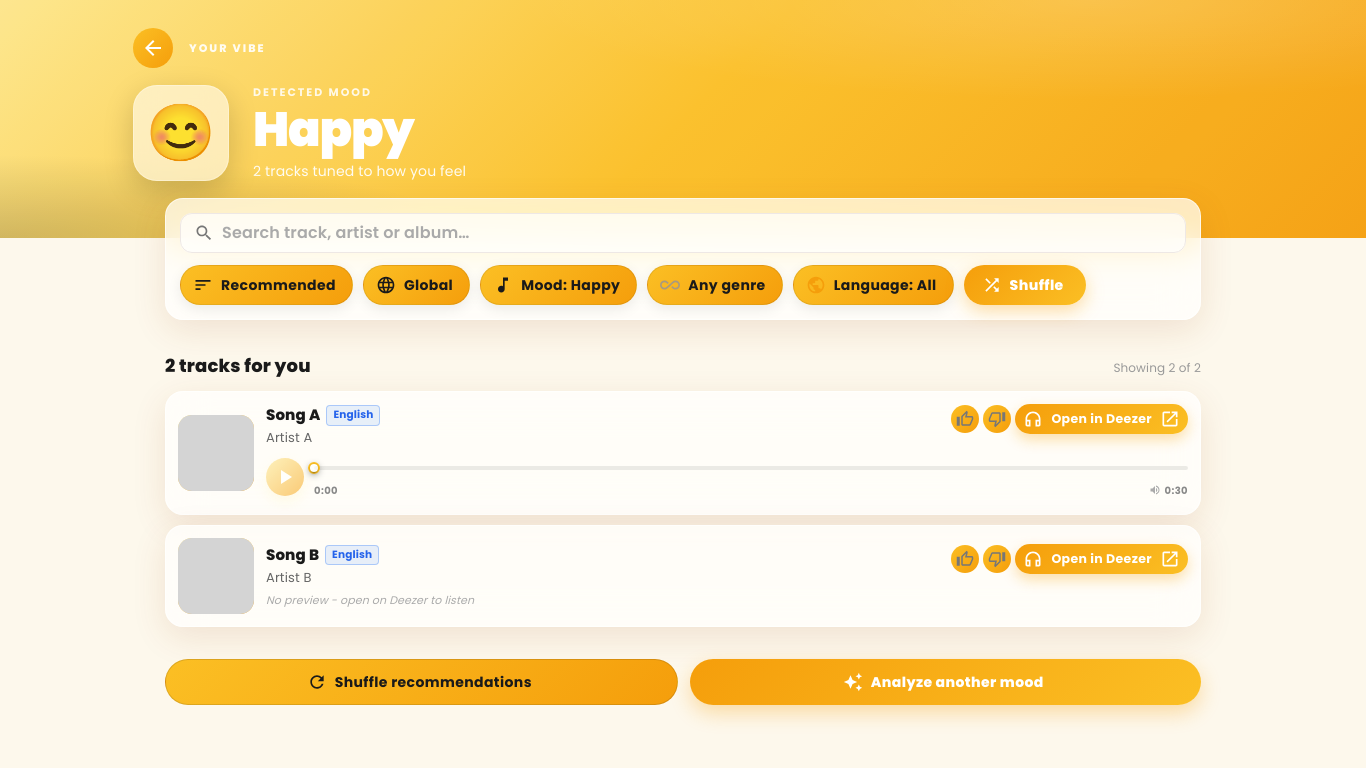
Test: <ResultsPage /> › opens the mood Menu and refetches when a different mood is picked
The image size is (1366, 768).
Click the mood pill button - its label includes "Mood: Happy".
Click the button "Mood: Happy" at (559,285), box [480,265,637,305]
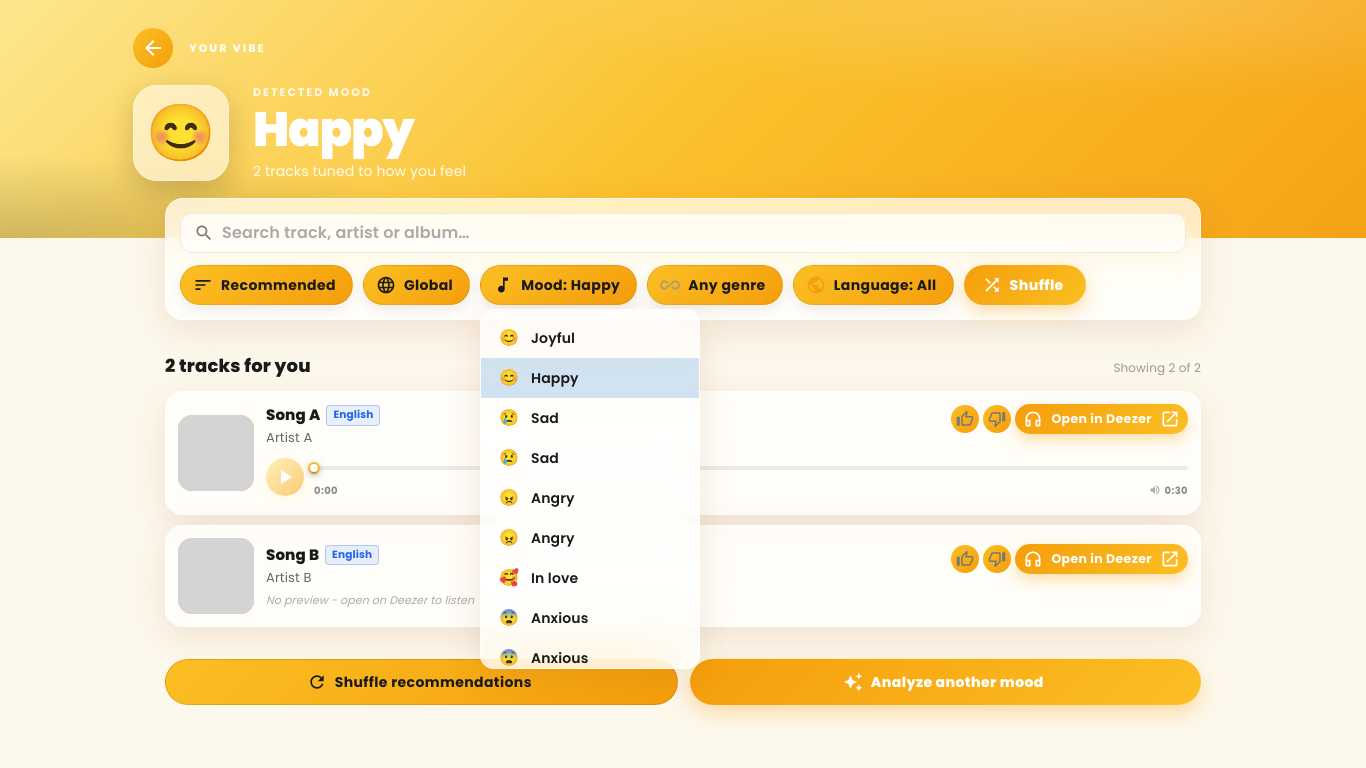
Pick "Joyful" (label for the joy emotion in MOOD_PALETTE).
Click the menu item "😊 Joyful" at (537,338), box [499,326,575,349]
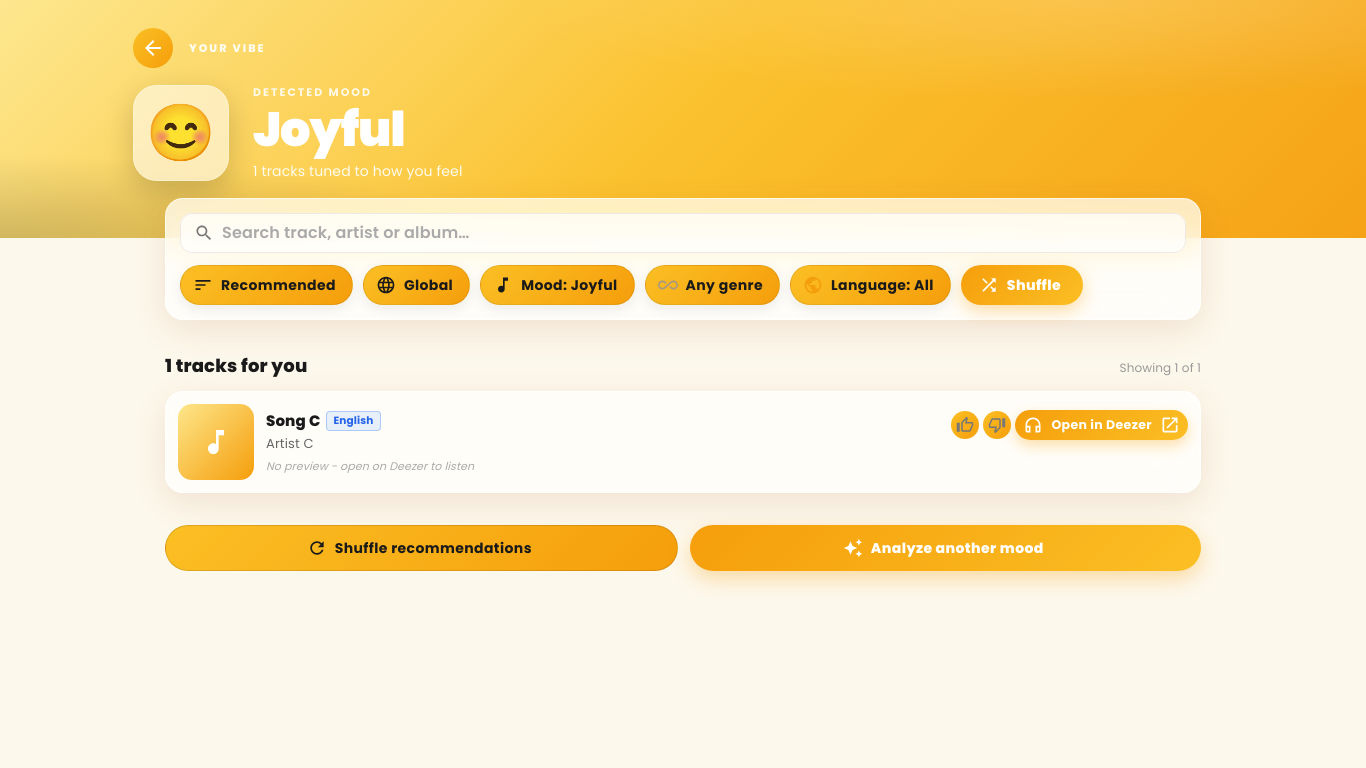
Expected: the text "Song C" is shown, [266,410,320,432]
Expected: the text "Artist C" is shown, [266,434,314,453]
